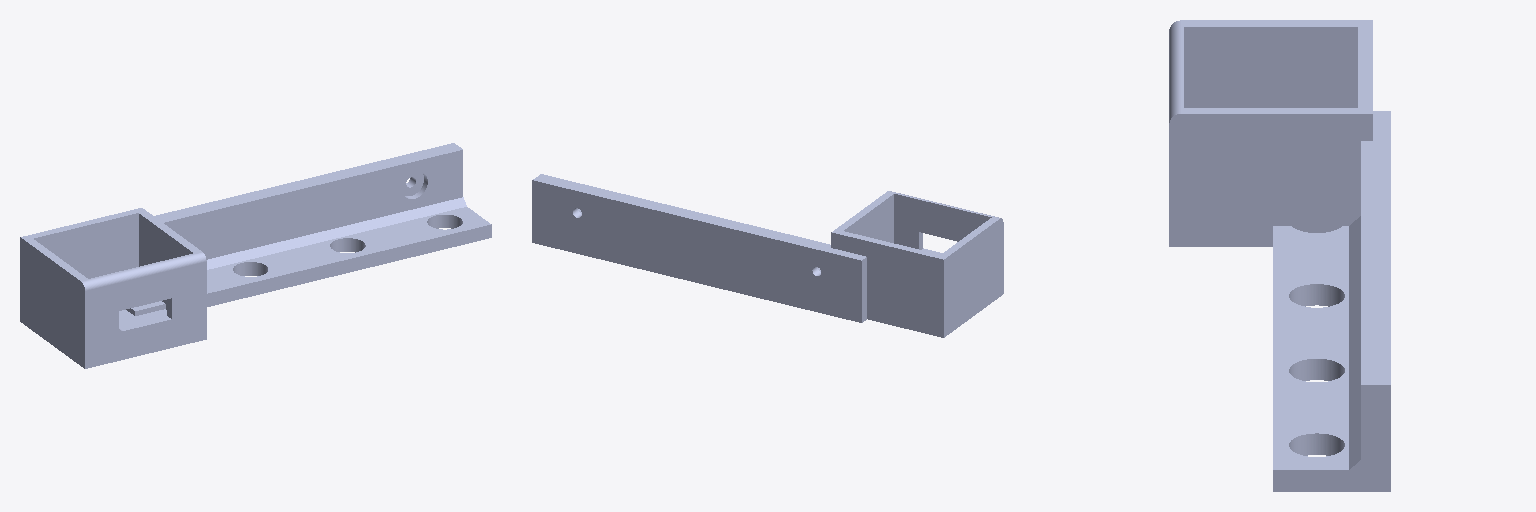
The robot description file, URDF, robot "abc_mesh_8_scale_6":
<?xml version="1.0" encoding="utf-8"?>
<!-- This URDF was automatically created by SolidWorks to URDF Exporter! Originally created by [author] ([email redacted]) 
     Commit Version: 1.5.1-0-g916b5db  Build Version: 1.5.7152.31018
     For more information, please see http://wiki.ros.org/sw_urdf_exporter -->
<robot
  name="abc_mesh_8_scale_6">
  <link
    name="abc_mesh_8_scale_6">
    <inertial>
      <origin
        xyz="0.0 0.0 -0.0"
        rpy="0 0 0" />
      <mass
        value="0.01" />
      <inertia
        ixx="0"
        ixy="-0"
        ixz="-0"
        iyy="0"
        iyz="-0"
        izz="0" />
    </inertial>
    <visual>
      <origin
        xyz="0 0 0"
        rpy="0 0 0" />
      <geometry>
        <mesh
          filename="package://ipa_kifz_data/test_dataset/meshes/abc_mesh_8_scale_6.STL" />
      </geometry>
      <material
        name="">
        <color
          rgba="0.79216 0.81961 0.93333 1" />
      </material>
    </visual>
    <collision>
      <origin
        xyz="0 0 0"
        rpy="0 0 0" />
      <geometry>
        <mesh
          filename="package://ipa_kifz_data/test_dataset/meshes/abc_mesh_8_scale_6.STL" />
      </geometry>
    </collision>
  </link>

  <!-- Turn of Gravity to fix workpiece at initial position-->
  <gazebo reference="abc_mesh_8_scale_6">
    <turnGravityOff>true</turnGravityOff>
    <static>true</static>
    <selfCollide>true</selfCollide>
    <material>Gazebo/Green</material>
  </gazebo>
</robot>

--- Render facts (derived) ---
The picture shows the robot from 3 angles, left to right: view 1: azimuth 30°, elevation 25°; view 2: azimuth 150°, elevation 25°; view 3: azimuth 270°, elevation 25°; orthographic projection.
Model abc_mesh_8_scale_6 with 1 links and 0 joints (none), rooted at abc_mesh_8_scale_6, posed all joints at 0.
Visible links, largest first — view 1: abc_mesh_8_scale_6; view 2: abc_mesh_8_scale_6; view 3: abc_mesh_8_scale_6.
Link boxes in pixels (x1,y1,x2,y2): abc_mesh_8_scale_6: [20, 143, 491, 368]; abc_mesh_8_scale_6: [532, 174, 1003, 337]; abc_mesh_8_scale_6: [1169, 20, 1390, 491].
Bounding box of the posed robot: 0.8138 × 0.2254 × 0.15 m (x, y, z).
Meshes: 1 distinct files referenced, 1 mesh visuals loaded (1 binary STL).